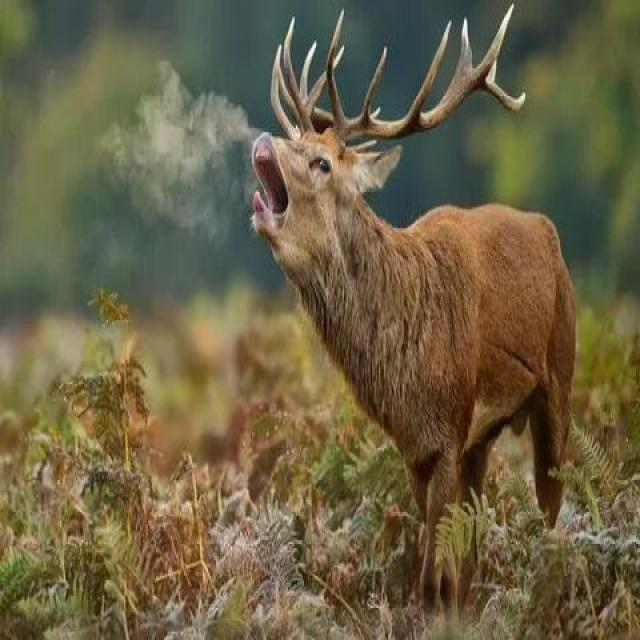deer: (218, 4, 554, 476)
